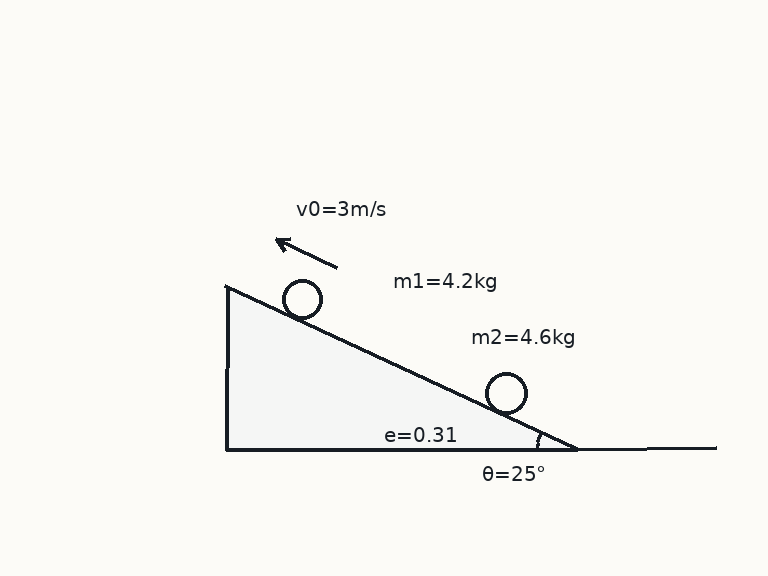ball: (483, 370, 529, 416), (280, 277, 324, 321)
ramp: (224, 283, 579, 451)
